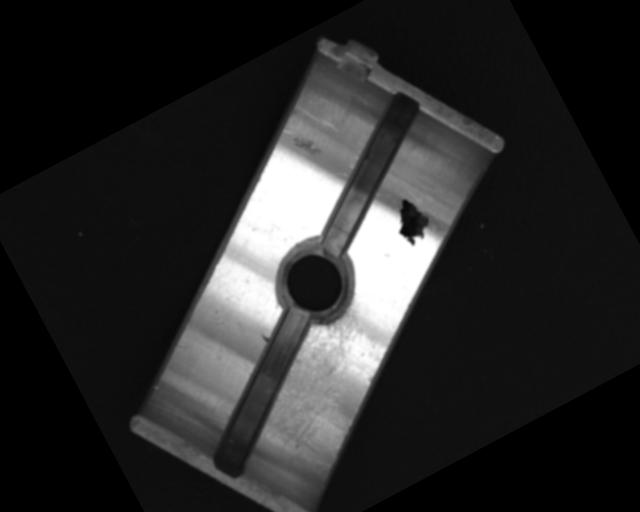blot: (384, 191, 438, 249)
bruise: (289, 127, 327, 165), (259, 330, 272, 345)
gap: (167, 302, 359, 481), (280, 88, 462, 256)
hole: (265, 232, 367, 333)
scratch: (229, 296, 412, 474)
